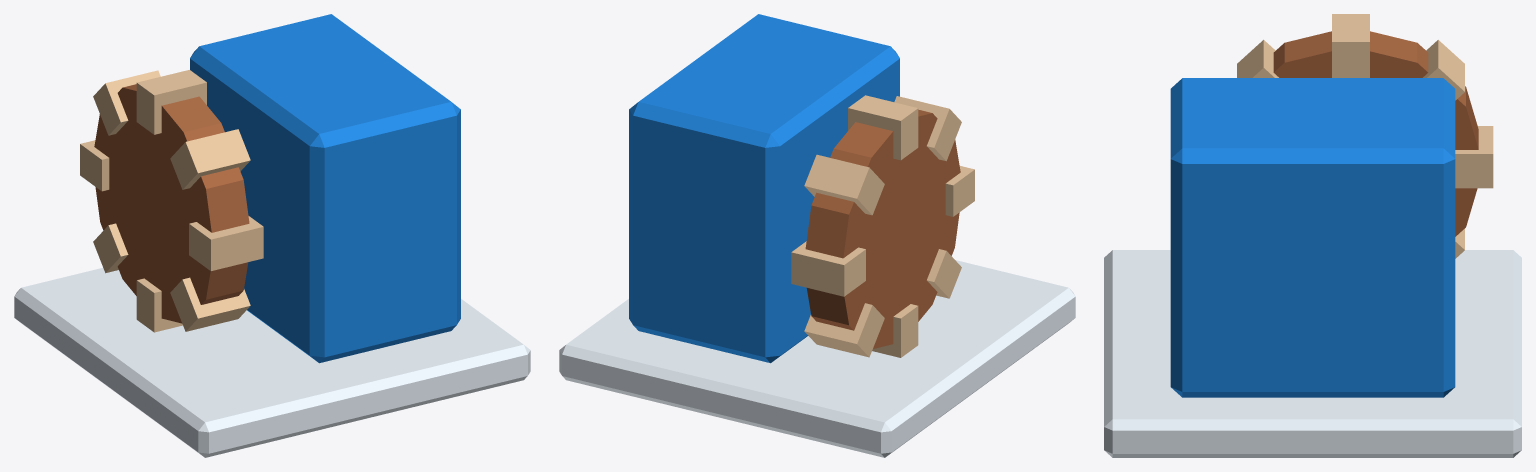
Rendered from Building_Collection_1x1_v001.fbx.
3 renders of one model, left to right at view 1: azimuth 30°, elevation 25°; view 2: azimuth 150°, elevation 25°; view 3: azimuth 270°, elevation 25°, orthographic. The views are drawn at different scales.
Parts seen in each view (by area): view 1: Tank, Foundation, Waterwheel, WheelPaddle.002, WheelPaddle.001, WheelPaddle, WheelPaddle.003, WheelPaddle.007, WheelPaddle.004, WheelPaddle.006, WheelPaddle.005; view 2: Tank, Foundation, Waterwheel, WheelPaddle.006, WheelPaddle.007, WheelPaddle, WheelPaddle.005, WheelPaddle.001, WheelPaddle.004, WheelPaddle.002, WheelPaddle.003; view 3: Tank, Foundation, Waterwheel, WheelPaddle, WheelPaddle.006, WheelPaddle.007, WheelPaddle.001.
Boxes of the visible parts, box(x1,y1,x2,y2) form: Tank: box(190, 14, 460, 363); Foundation: box(14, 268, 530, 457); Waterwheel: box(94, 84, 249, 323); WheelPaddle.002: box(189, 216, 263, 270); WheelPaddle.001: box(170, 129, 250, 189); WheelPaddle: box(136, 70, 206, 134); WheelPaddle.003: box(170, 277, 250, 331); WheelPaddle.007: box(93, 70, 160, 135); WheelPaddle.004: box(136, 278, 182, 332); WheelPaddle.006: box(80, 140, 109, 191); WheelPaddle.005: box(93, 223, 128, 273); Tank: box(629, 14, 899, 363); Foundation: box(559, 260, 1075, 457); Waterwheel: box(805, 109, 960, 348); WheelPaddle.006: box(791, 241, 865, 296); WheelPaddle.007: box(804, 154, 884, 215); WheelPaddle: box(848, 95, 918, 160); WheelPaddle.005: box(804, 303, 884, 357); WheelPaddle.001: box(894, 96, 961, 161); WheelPaddle.004: box(872, 304, 918, 357); WheelPaddle.002: box(945, 166, 974, 216); WheelPaddle.003: box(927, 249, 961, 298); Tank: box(1170, 78, 1455, 397); Foundation: box(1104, 250, 1521, 457); Waterwheel: box(1273, 31, 1478, 236); WheelPaddle: box(1332, 14, 1369, 77); WheelPaddle.006: box(1455, 126, 1493, 188); WheelPaddle.007: box(1423, 40, 1464, 100); WheelPaddle.001: box(1237, 39, 1278, 77).
Bounding box in the file's own units: 88 × 70 × 88.
